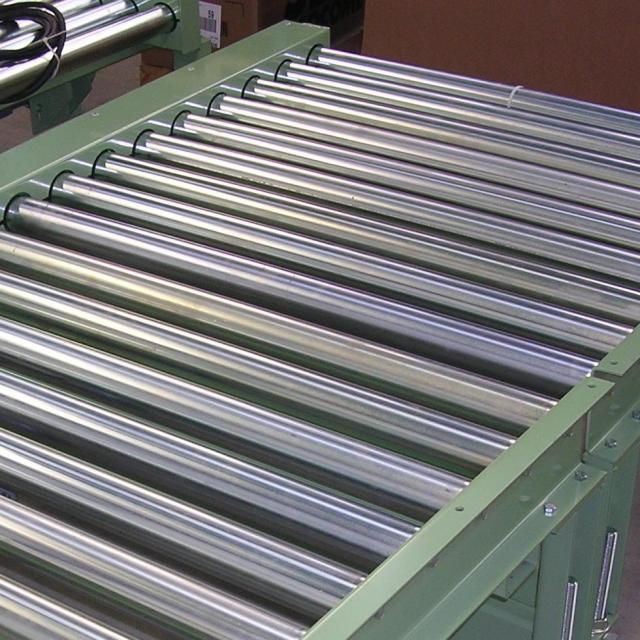Convoyeur: (0, 23, 636, 640)
